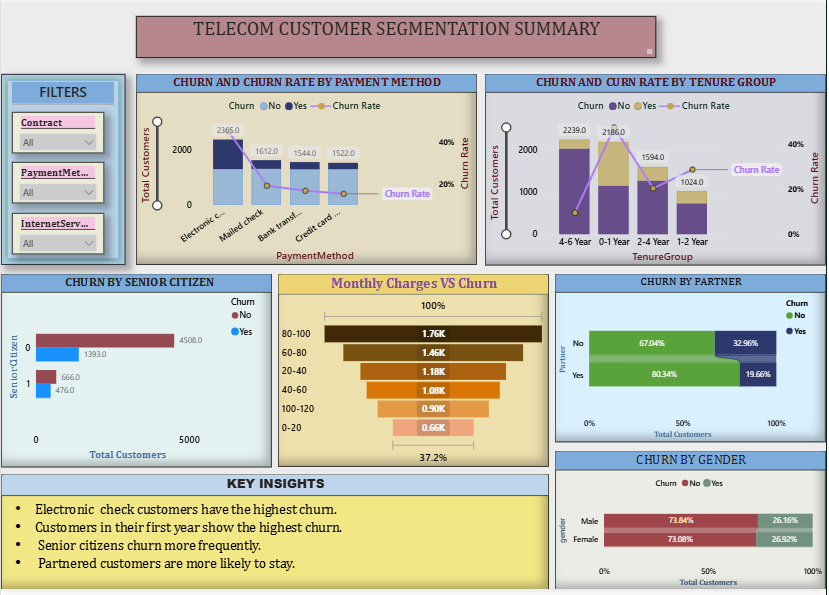

The dashboard page shown, as its layout file describes it:
{"tool":"powerbi","page":{"name":"Page 2","canvas":[1280,910],"ordinal":1},"visuals":[{"type":"lineStackedColumnComboChart","title":"CHURN  AND CHURN  RATE BY PAYMENT METHOD","fields":{"Category":["telco_churn_cleaned.PaymentMethod"],"Y":["telco_churn_cleaned.Total Customers"],"Y2":["telco_churn_cleaned.Churn Rate"],"Series":["telco_churn_cleaned.Churn"]},"box":[210.2,109.8,528.6,296.5],"z":0},{"type":"lineStackedColumnComboChart","title":"CHURN  AND CURN  RATE BY TENURE GROUP","fields":{"Y":["telco_churn_cleaned.Total Customers"],"Y2":["telco_churn_cleaned.Churn Rate"],"Series":["telco_churn_cleaned.Churn"],"Category":["telco_churn_cleaned.TenureGroup"]},"box":[750.8,109.5,529.2,297.2],"z":1000},{"type":"clusteredBarChart","title":"CHURN BY SENIOR CITIZEN","fields":{"Category":["telco_churn_cleaned.SeniorCitizen"],"Y":["telco_churn_cleaned.Total Customers"],"Series":["telco_churn_cleaned.Churn"]},"box":[0,419.7,419.7,299.8],"z":2000},{"type":"hundredPercentStackedBarChart","title":"CHURN BY PARTNER","fields":{"Category":["telco_churn_cleaned.Partner"],"Y":["telco_churn_cleaned.Total Customers"],"Series":["telco_churn_cleaned.Churn"]},"box":[859.5,420.5,420.5,260.7],"z":3000},{"type":"textbox","title":"TELECOM CUSTOMER SEGMENTATION SUMMARY","box":[209.4,20.8,806.5,65],"z":4000},{"type":"shape","box":[0,109.8,192.9,296.5],"z":5000},{"type":"textbox","title":"FILTERS","box":[17.3,122.4,158.4,34.5],"z":6000},{"type":"slicer","fields":{"Values":["telco_churn_cleaned.Contract"]},"box":[17.3,169.4,142.7,64.3],"z":7000},{"type":"slicer","fields":{"Values":["telco_churn_cleaned.PaymentMethod"]},"box":[17.3,246.3,142.7,64.3],"z":8000},{"type":"slicer","fields":{"Values":["telco_churn_cleaned.InternetService"]},"box":[17.3,326.3,142.7,64.3],"z":9000},{"type":"textbox","title":"KEY INSIGHTS","box":[0,730.8,850.2,180],"z":10000},{"type":"hundredPercentStackedBarChart","title":"CHURN BY GENDER","fields":{"Category":["telco_churn_cleaned.gender"],"Series":["telco_churn_cleaned.Churn"],"Y":["telco_churn_cleaned.Total Customers"]},"box":[859.5,695.1,420.5,215.7],"z":11000},{"type":"funnel","title":"Monthly Charges VS Churn","fields":{"Y":["CountNonNull(telco_churn_cleaned.Churn)"],"Category":["telco_churn_cleaned.MonthlyChargeGroup"]},"box":[429.8,420.5,420.5,299.4],"z":11001}]}

Visuals, with their boxes in screenshot pixels (x1, y1, x2, y2), scaled from the page's 1280x910 canvas onto the 829x595 screenshot:
"CHURN  AND CHURN  RATE BY PAYMENT METHOD" lineStackedColumnComboChart: (left=136, top=72, right=478, bottom=266)
"CHURN  AND CURN  RATE BY TENURE GROUP" lineStackedColumnComboChart: (left=486, top=72, right=828, bottom=266)
"CHURN BY SENIOR CITIZEN" clusteredBarChart: (left=0, top=274, right=272, bottom=470)
"CHURN BY PARTNER" hundredPercentStackedBarChart: (left=557, top=275, right=828, bottom=445)
"TELECOM CUSTOMER SEGMENTATION SUMMARY" textbox: (left=136, top=14, right=658, bottom=56)
shape: (left=0, top=72, right=125, bottom=266)
"FILTERS" textbox: (left=11, top=80, right=114, bottom=103)
slicer - telco_churn_cleaned.Contract: (left=11, top=111, right=104, bottom=153)
slicer - telco_churn_cleaned.PaymentMethod: (left=11, top=161, right=104, bottom=203)
slicer - telco_churn_cleaned.InternetService: (left=11, top=213, right=104, bottom=255)
"KEY INSIGHTS" textbox: (left=0, top=478, right=551, bottom=594)
"CHURN BY GENDER" hundredPercentStackedBarChart: (left=557, top=454, right=828, bottom=594)
"Monthly Charges VS Churn" funnel: (left=278, top=275, right=551, bottom=471)
